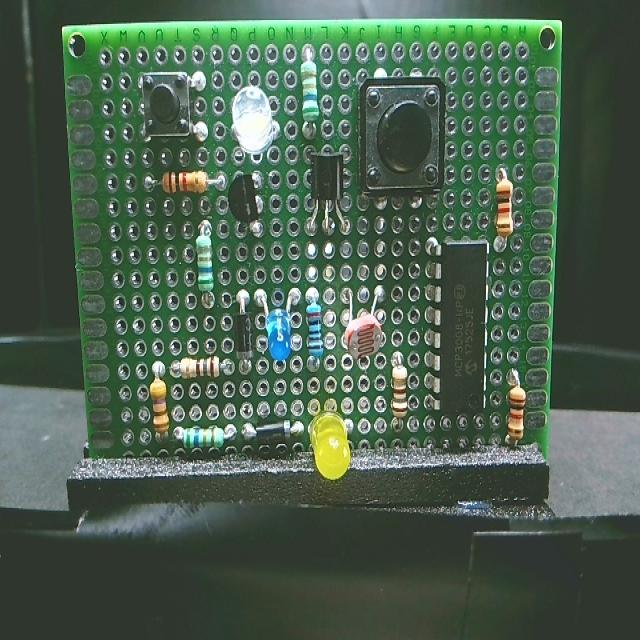IC: (421, 236, 492, 426)
cds: (338, 281, 390, 371)
diode: (241, 416, 306, 462), (232, 285, 254, 385)
led: (254, 286, 304, 377), (308, 401, 358, 490), (227, 82, 281, 164)
resistor: (188, 218, 222, 319), (138, 168, 228, 204), (298, 42, 326, 146), (503, 359, 531, 463), (168, 417, 238, 458), (298, 284, 327, 382), (170, 349, 238, 386), (493, 159, 518, 259), (149, 354, 170, 452), (389, 346, 412, 434)
switch: (352, 62, 452, 212), (133, 70, 211, 142)
transistor: (301, 148, 357, 244), (228, 170, 272, 240)
